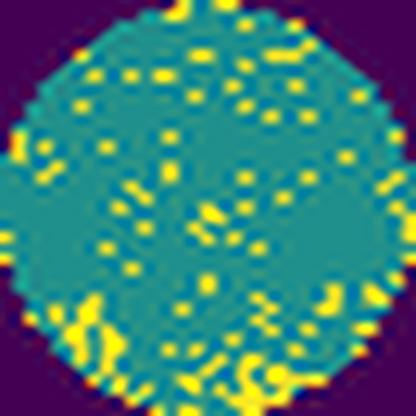Edge-Loc: (210, 348, 335, 416), (64, 298, 136, 391)
